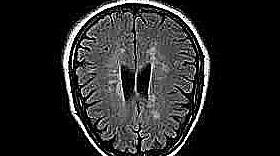Normal_Brain: (1, 1, 280, 156)
